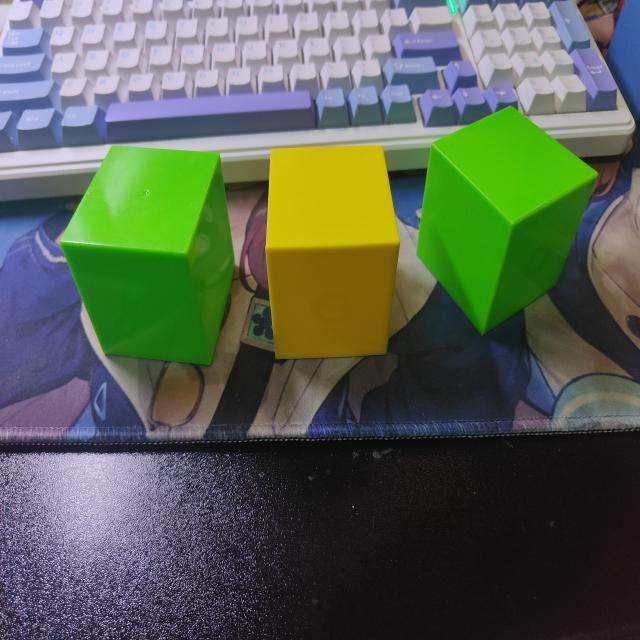green: (415, 107, 598, 336), (58, 145, 236, 371)
yellow: (262, 144, 402, 363)
